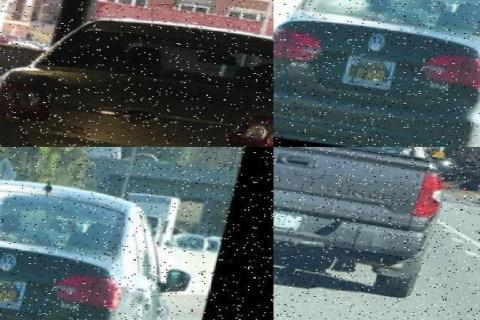LicensePlate: (338, 53, 395, 89), (0, 272, 28, 308), (272, 209, 304, 231)
